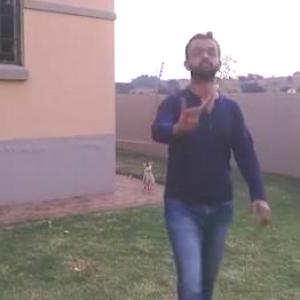takeoff-hand: (178, 93, 214, 134)
